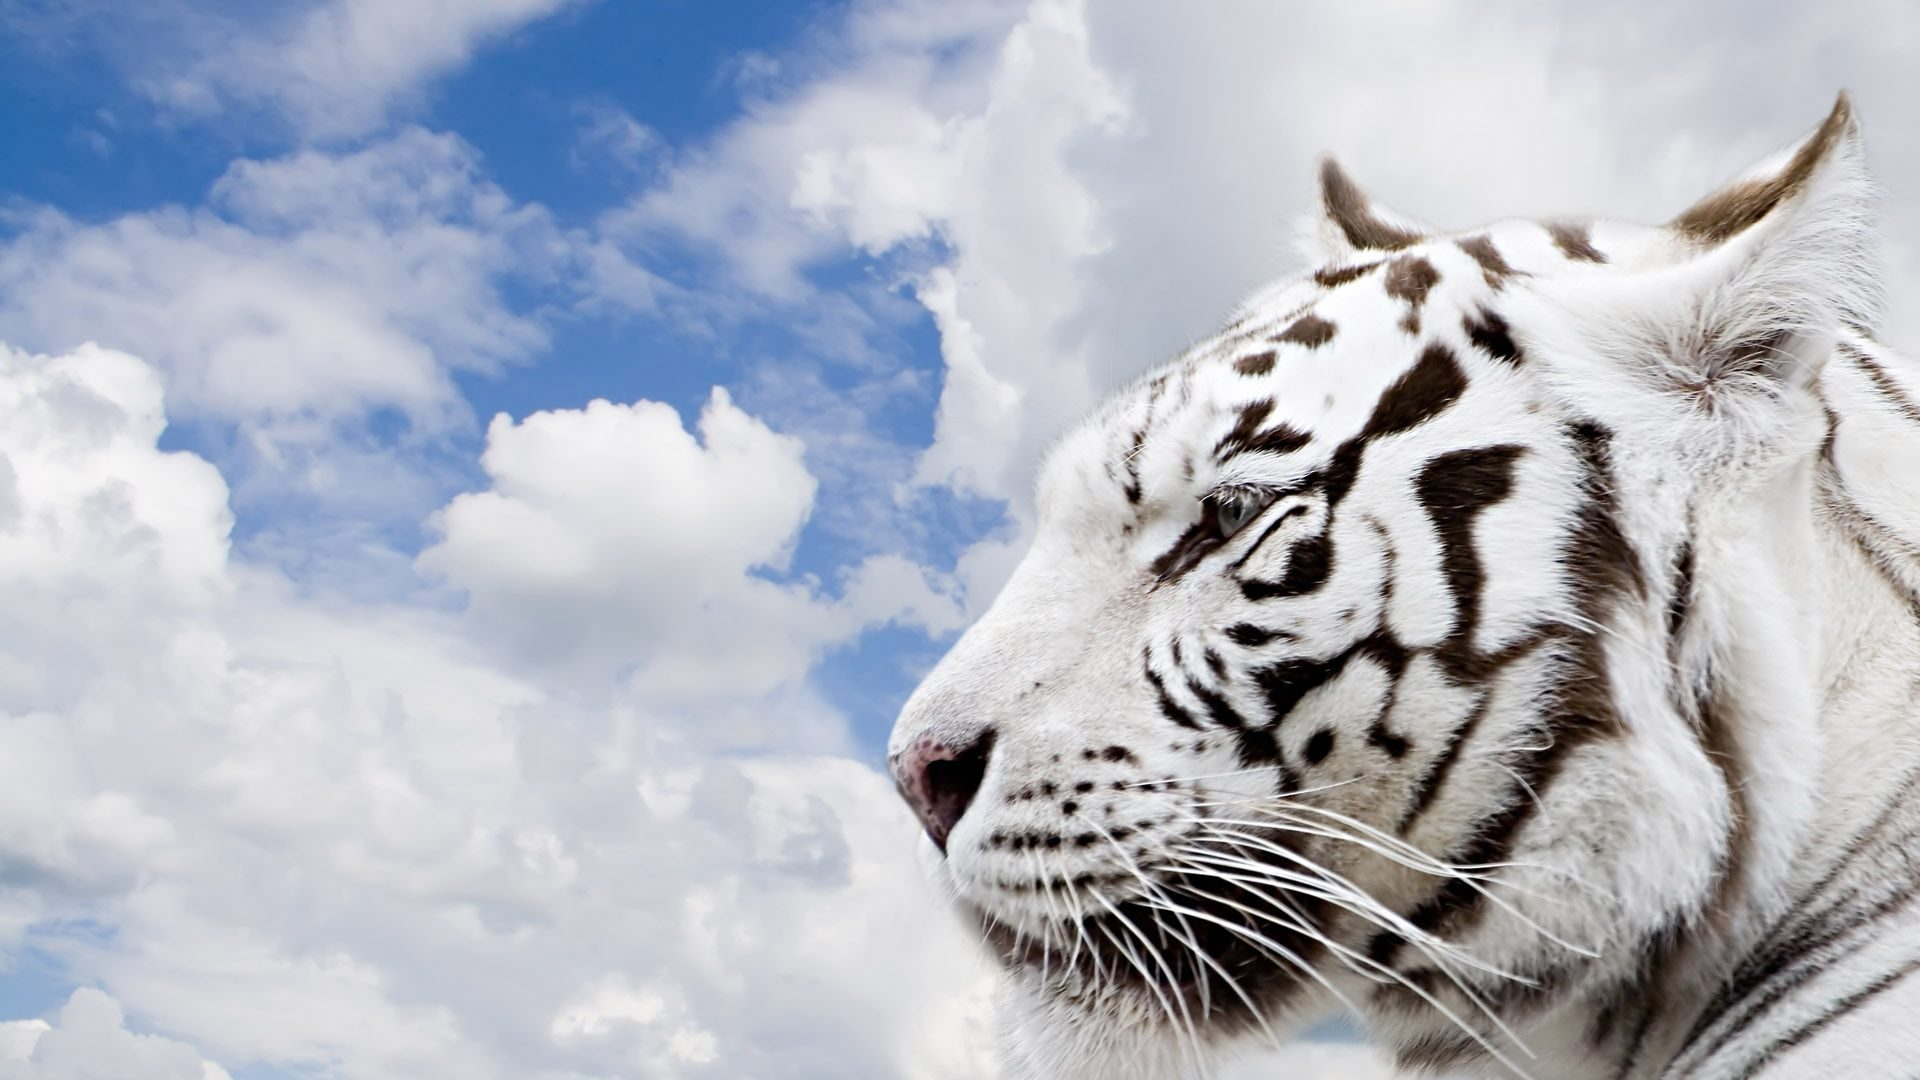Tigrew: (897, 141, 1920, 1077)
